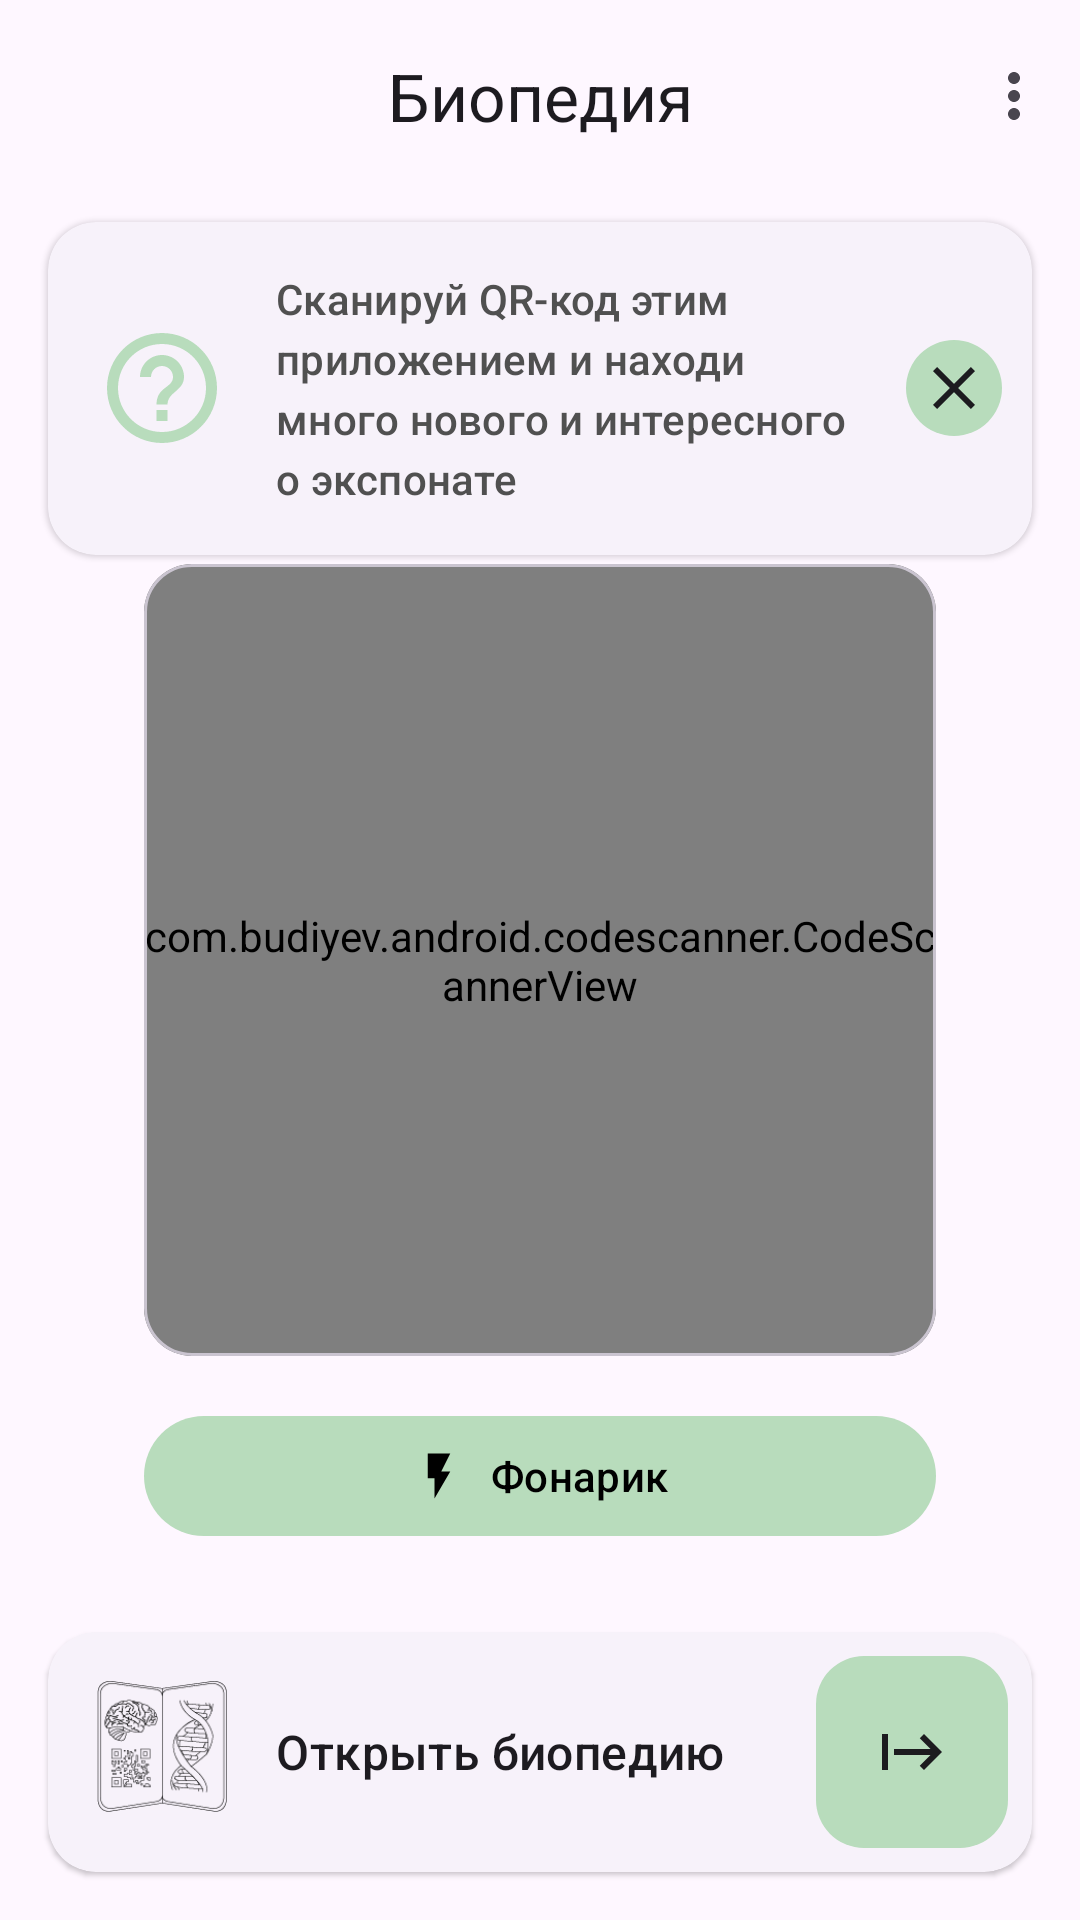

Icon bounding boxes for this 1080px x 1920px phone screenshot, format (x1, y1, x2, y2):
close: (906, 340, 1002, 436)
help: (107, 333, 217, 443)
start: (816, 1656, 1008, 1848)
